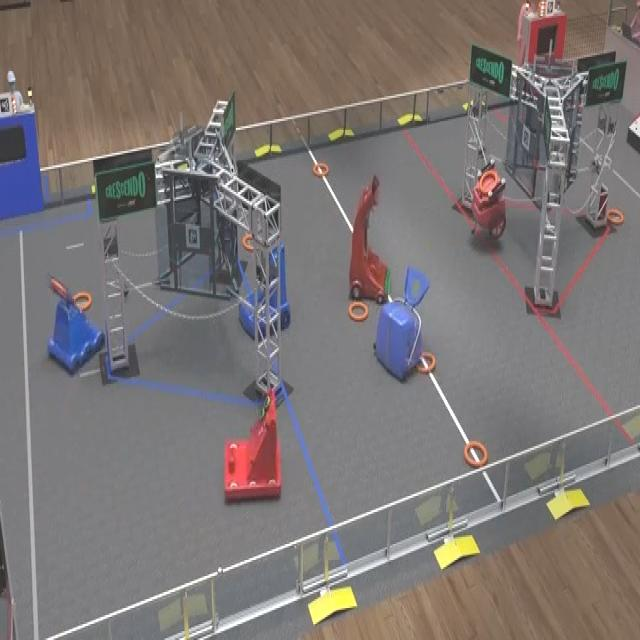notes: (465, 437, 491, 467), (346, 300, 370, 323), (72, 291, 92, 311), (608, 210, 623, 225), (312, 163, 328, 176), (242, 233, 253, 251)
